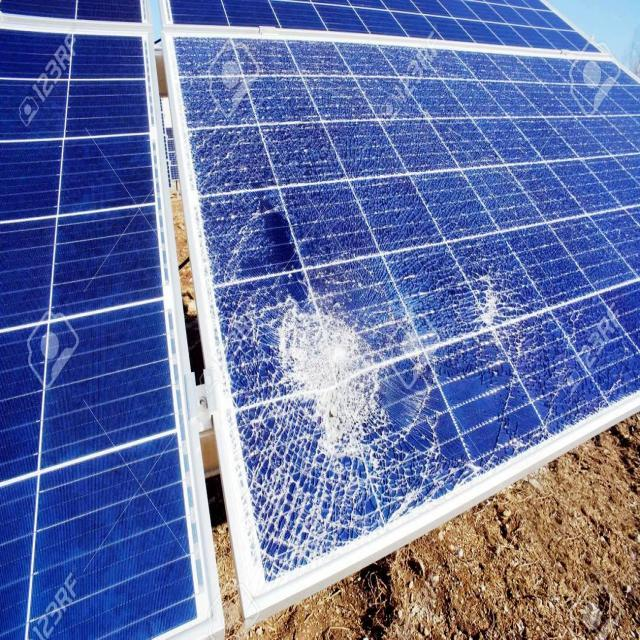faulty: (164, 29, 640, 600)
no faulty: (3, 26, 224, 640)
